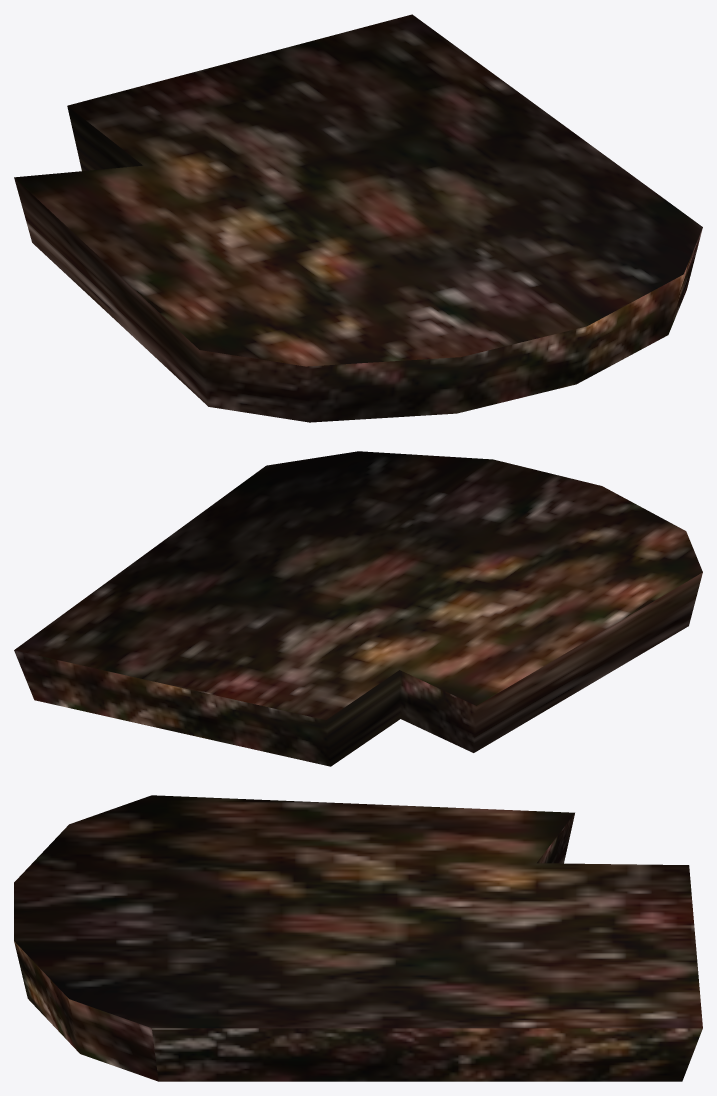
File: ITAT_DRAGONSCALE.glb
3 views of the same model, one above another, from view 1: azimuth 30°, elevation 25°; view 2: azimuth 150°, elevation 25°; view 3: azimuth 270°, elevation 25° (orthographic). The views are drawn at different scales.
Visible parts, largest first — view 1: Mesh; view 2: Mesh; view 3: Mesh.
Boxes of the visible parts, x1,y1,x2,y2 form: Mesh: (14, 14, 702, 422); Mesh: (14, 451, 702, 766); Mesh: (14, 795, 702, 1081).
Bounding box in the file's own units: 0.4 × 0.0475 × 0.5.
Materials: 1 (1 with a texture image).
